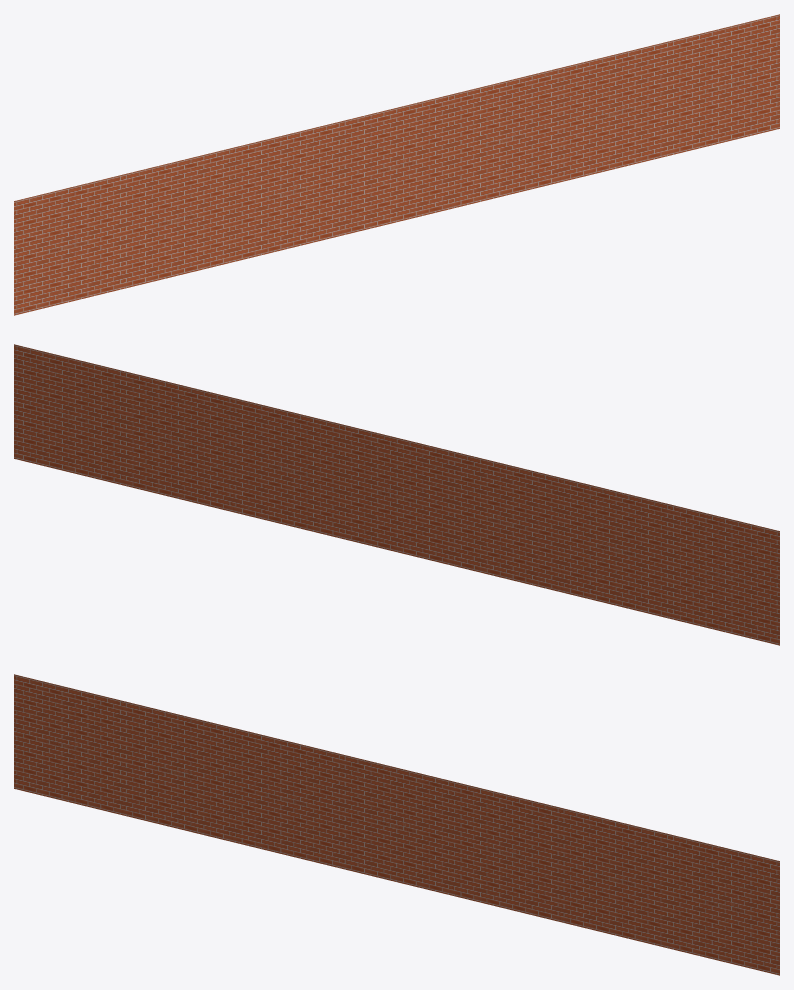
The model's file is gamemapBrickWall2.obj.
The picture shows the model from 3 angles, top to bottom: view 1: azimuth 30°, elevation 25°; view 2: azimuth 150°, elevation 25°; view 3: azimuth 330°, elevation 25°; orthographic projection.
Parts seen in each view (by area): view 1: Plane.068_Plane.007; view 2: Plane.068_Plane.007; view 3: Plane.068_Plane.007.
Boxes of the visible parts, x1,y1,x2,y2 form: Plane.068_Plane.007: (14, 14, 779, 315); Plane.068_Plane.007: (14, 344, 779, 645); Plane.068_Plane.007: (14, 674, 779, 975).
Size of the model in its own units: 368 by 52.5 by 0.
